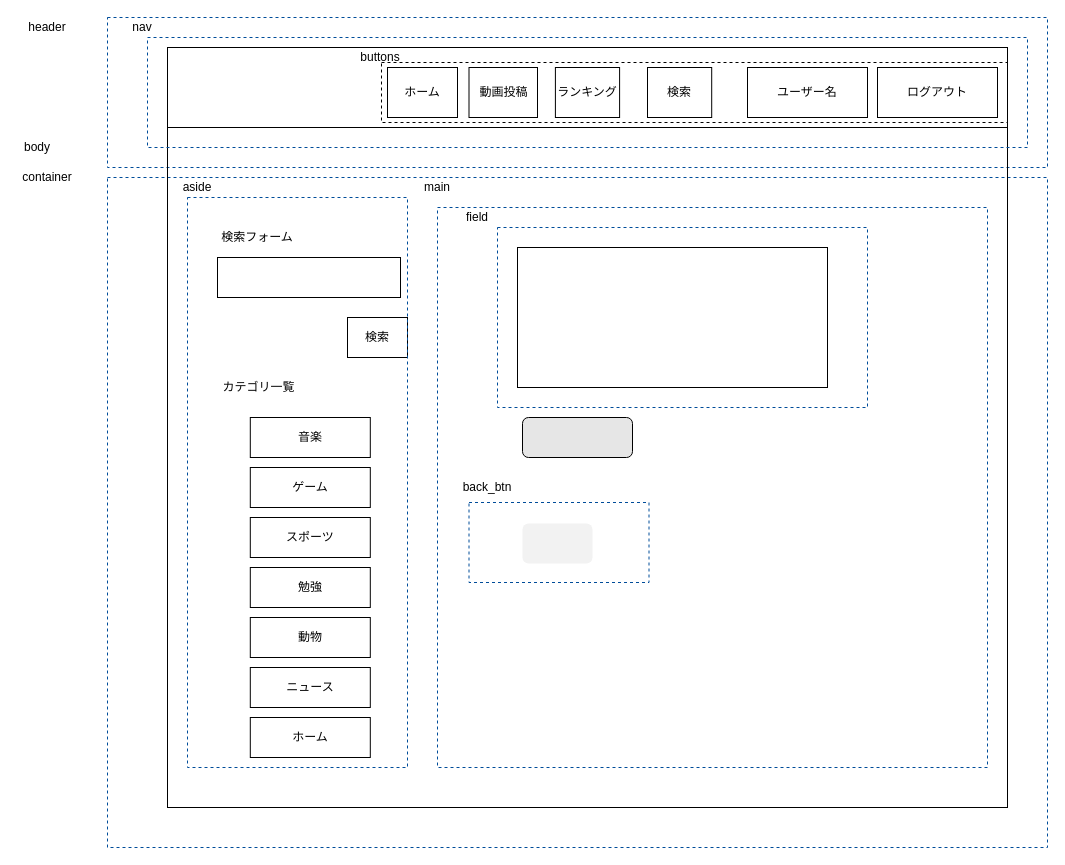
Image size: 1065x865. Some labels were removed from this diagram. Each missing label, with the box of its shape:
video_list: (166, 46, 1008, 128)
コメント欄: (516, 246, 828, 388)
戻る: (522, 523, 592, 563)
送信: (522, 416, 632, 458)
